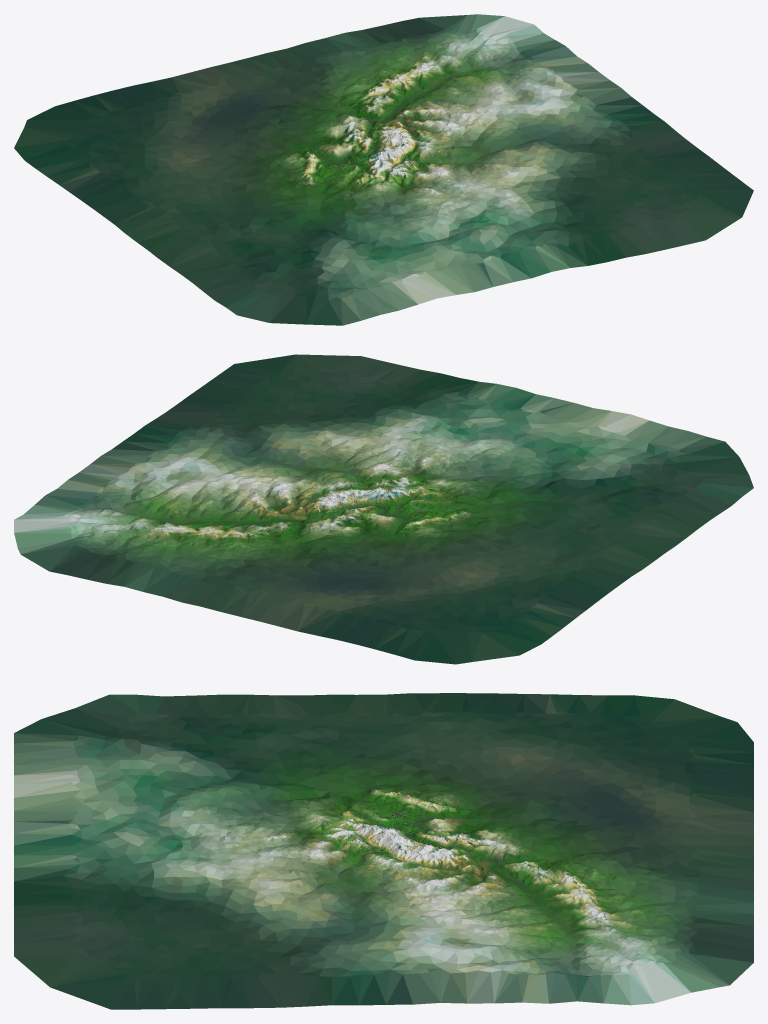
Rendered from scene_full_80.glb.
The picture shows the model from 3 angles, top to bottom: view 1: azimuth 30°, elevation 25°; view 2: azimuth 150°, elevation 25°; view 3: azimuth 270°, elevation 25°; orthographic projection. The views are drawn at different scales.
Visible parts, largest first — view 1: map; view 2: map; view 3: map.
Part boxes in pixels (x1,y1,x2,y2): map: (14,14,753,325); map: (14,354,753,664); map: (14,693,753,1009).
Size of the model in its own units: 630 by 23.91 by 630.
